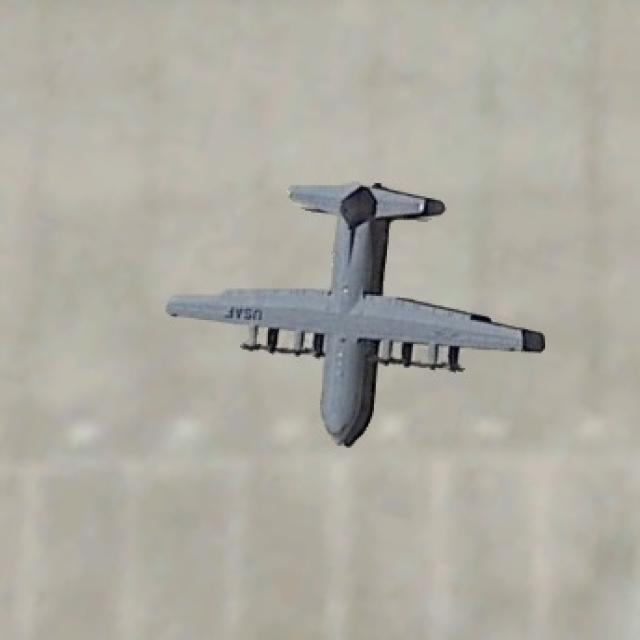C-130_TopDown: (160, 172, 550, 454)
